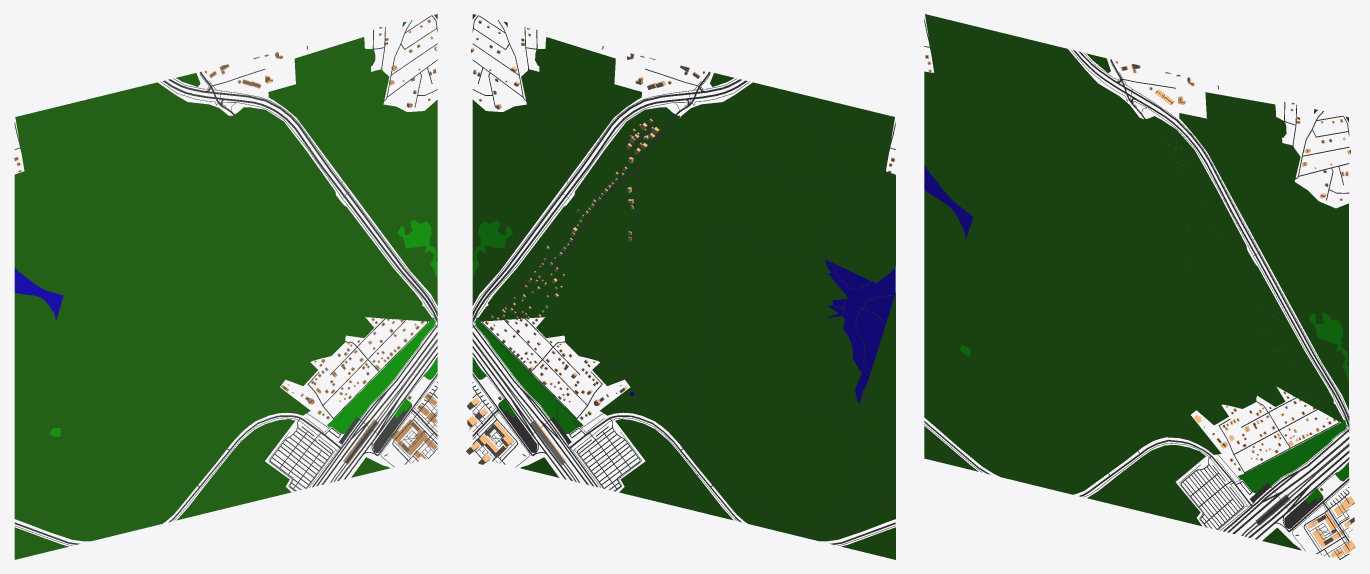
File: tile.288.fbx
The picture shows the model from 3 angles, left to right: view 1: azimuth 30°, elevation 25°; view 2: azimuth 150°, elevation 25°; view 3: azimuth 330°, elevation 25°; orthographic projection.
Visible parts, largest first — view 1: tile.288; view 2: tile.288; view 3: tile.288.
Part boxes in pixels (left/top/right/bottom): tile.288: left=14, top=14, right=437, bottom=559; tile.288: left=466, top=14, right=895, bottom=559; tile.288: left=924, top=14, right=1355, bottom=559.
Size of the model in its own units: 400 by 400 by 10.82.
